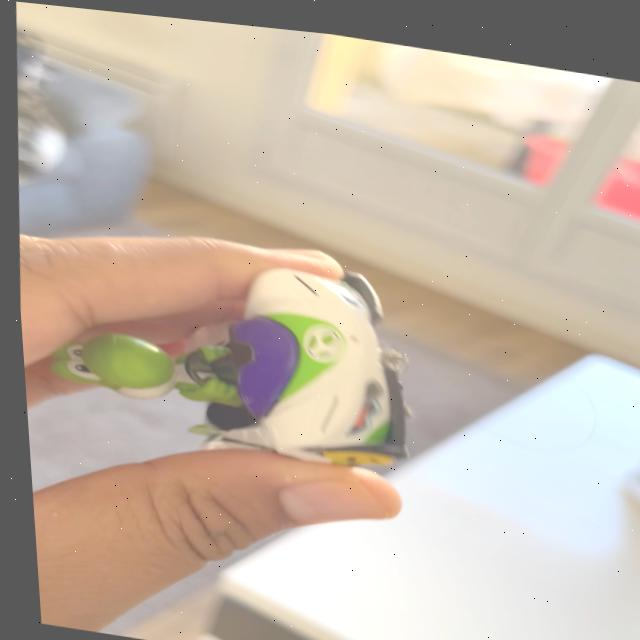yoshi: (36, 231, 426, 486)
